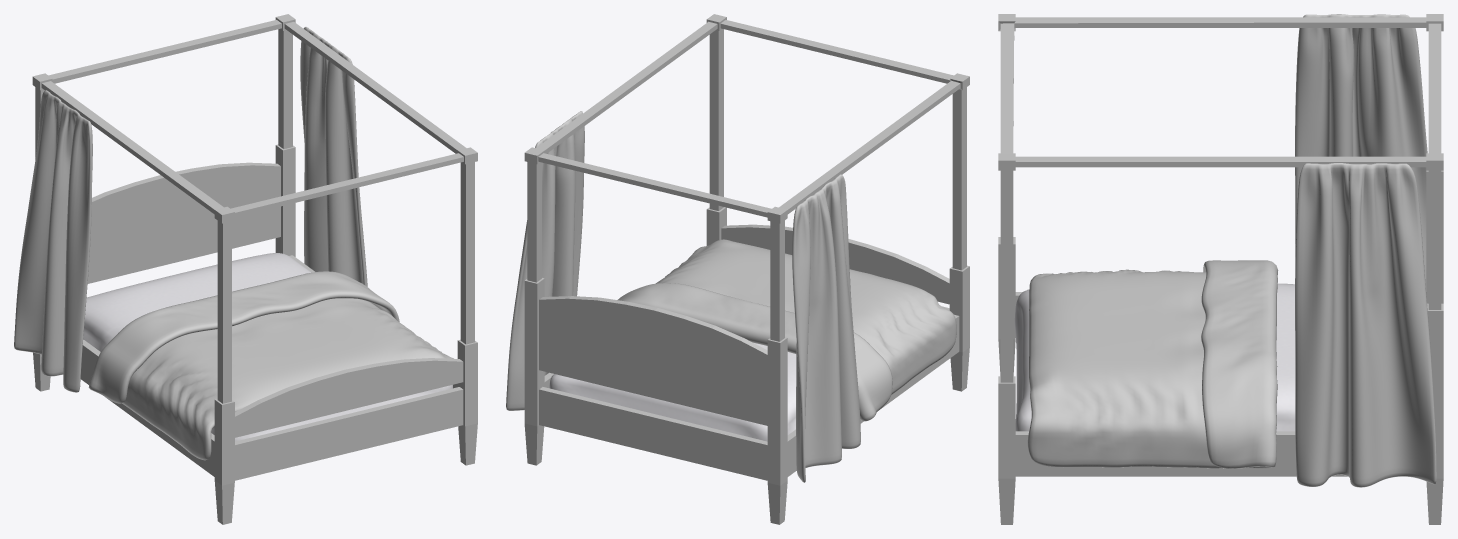
File: Bed28.fbx
3 views of the same model, side by side, from view 1: azimuth 30°, elevation 25°; view 2: azimuth 150°, elevation 25°; view 3: azimuth 270°, elevation 25° (orthographic). The views are drawn at different scales.
Visible parts, largest first — view 1: BedFrame28, Blanket28, Curtain28_2, Curtain28_1, Mattress28; view 2: BedFrame28, Blanket28, Curtain28_2, Curtain28_1, Mattress28; view 3: Blanket28, Curtain28_1, BedFrame28, Curtain28_2, Mattress28.
Boxes of the visible parts, <box> form: BedFrame28: <box>32,14,477,524</box>; Blanket28: <box>88,271,453,460</box>; Curtain28_2: <box>14,90,92,392</box>; Curtain28_1: <box>300,27,367,286</box>; Mattress28: <box>83,253,452,441</box>; BedFrame28: <box>524,14,969,524</box>; Blanket28: <box>617,239,956,421</box>; Curtain28_2: <box>792,174,860,482</box>; Curtain28_1: <box>506,111,584,410</box>; Mattress28: <box>549,343,796,441</box>; Blanket28: <box>1027,260,1278,468</box>; Curtain28_1: <box>1295,163,1436,487</box>; BedFrame28: <box>998,14,1443,524</box>; Curtain28_2: <box>1295,14,1427,291</box>; Mattress28: <box>1014,283,1295,431</box>.
Size of the model in its own units: 240 by 233 by 257.
